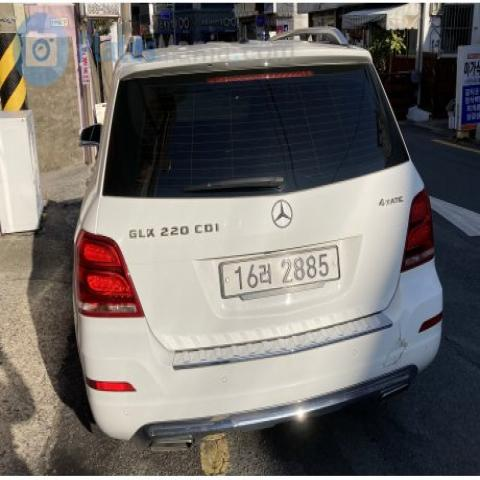LP: (214, 238, 344, 307)
